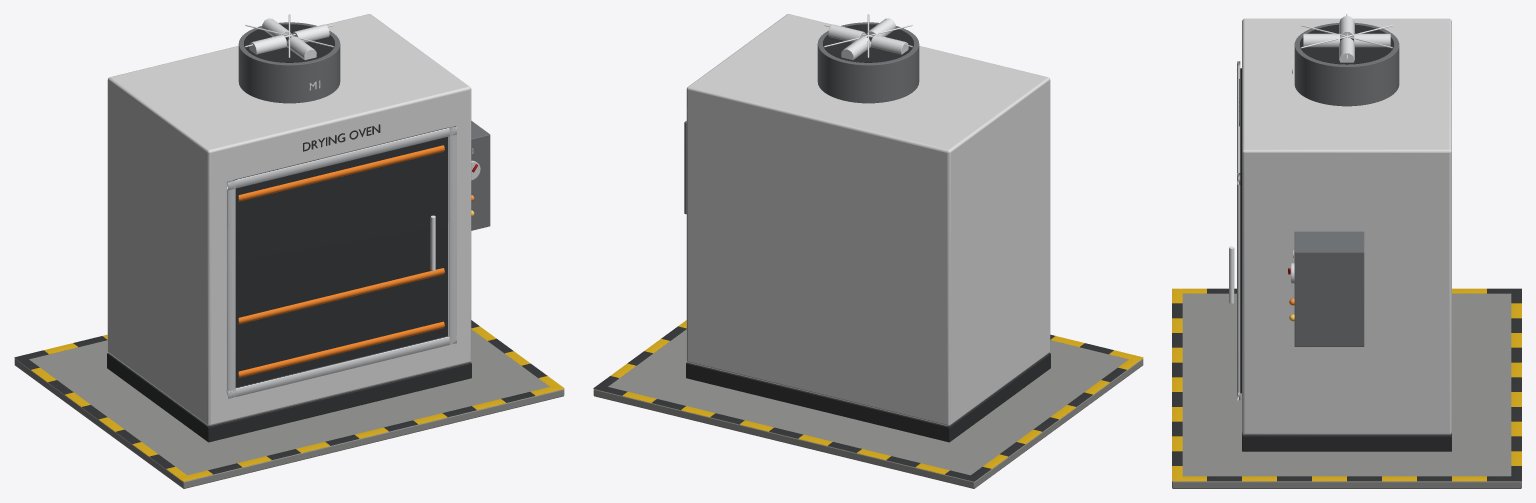
File: machine_oven.glb
3 views of the same model, side by side, from view 1: azimuth 30°, elevation 25°; view 2: azimuth 150°, elevation 25°; view 3: azimuth 270°, elevation 25° (orthographic). The views are drawn at different scales.
Parts seen in each view (by area): view 1: frame, glow_mesh, fan_mesh; view 2: frame, fan_mesh; view 3: frame, fan_mesh.
Part boxes in pixels (<box>): frame: <box>14,14,564,488</box>; glow_mesh: <box>238,145,444,377</box>; fan_mesh: <box>249,18,329,59</box>; frame: <box>593,14,1143,488</box>; fan_mesh: <box>828,18,908,59</box>; frame: <box>1172,14,1521,488</box>; fan_mesh: <box>1303,16,1390,62</box>.
Bounding box in the file's own units: 2.6 × 2.27 × 2.
